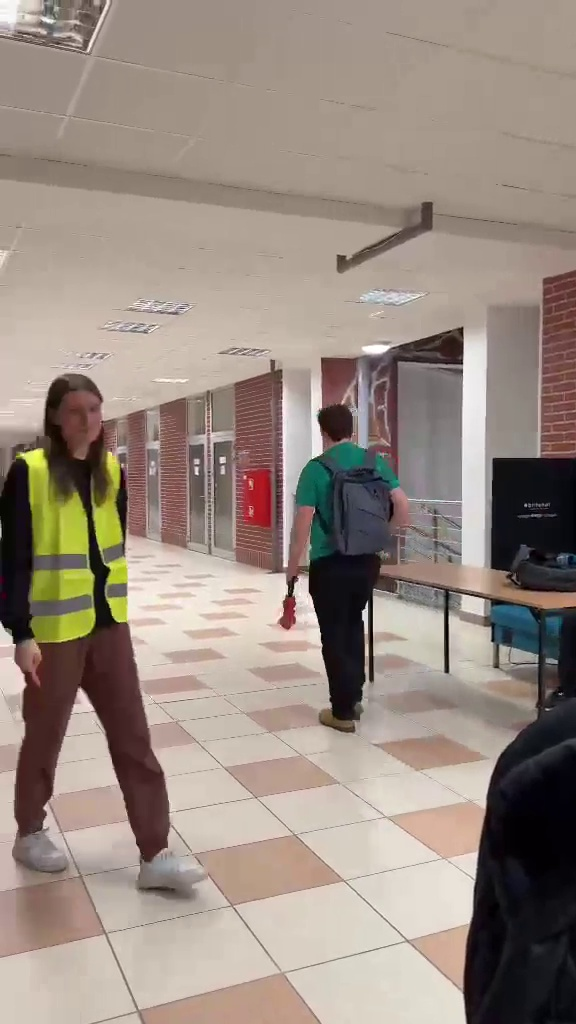no vest: (279, 400, 412, 716)
vest: (7, 370, 202, 887)
